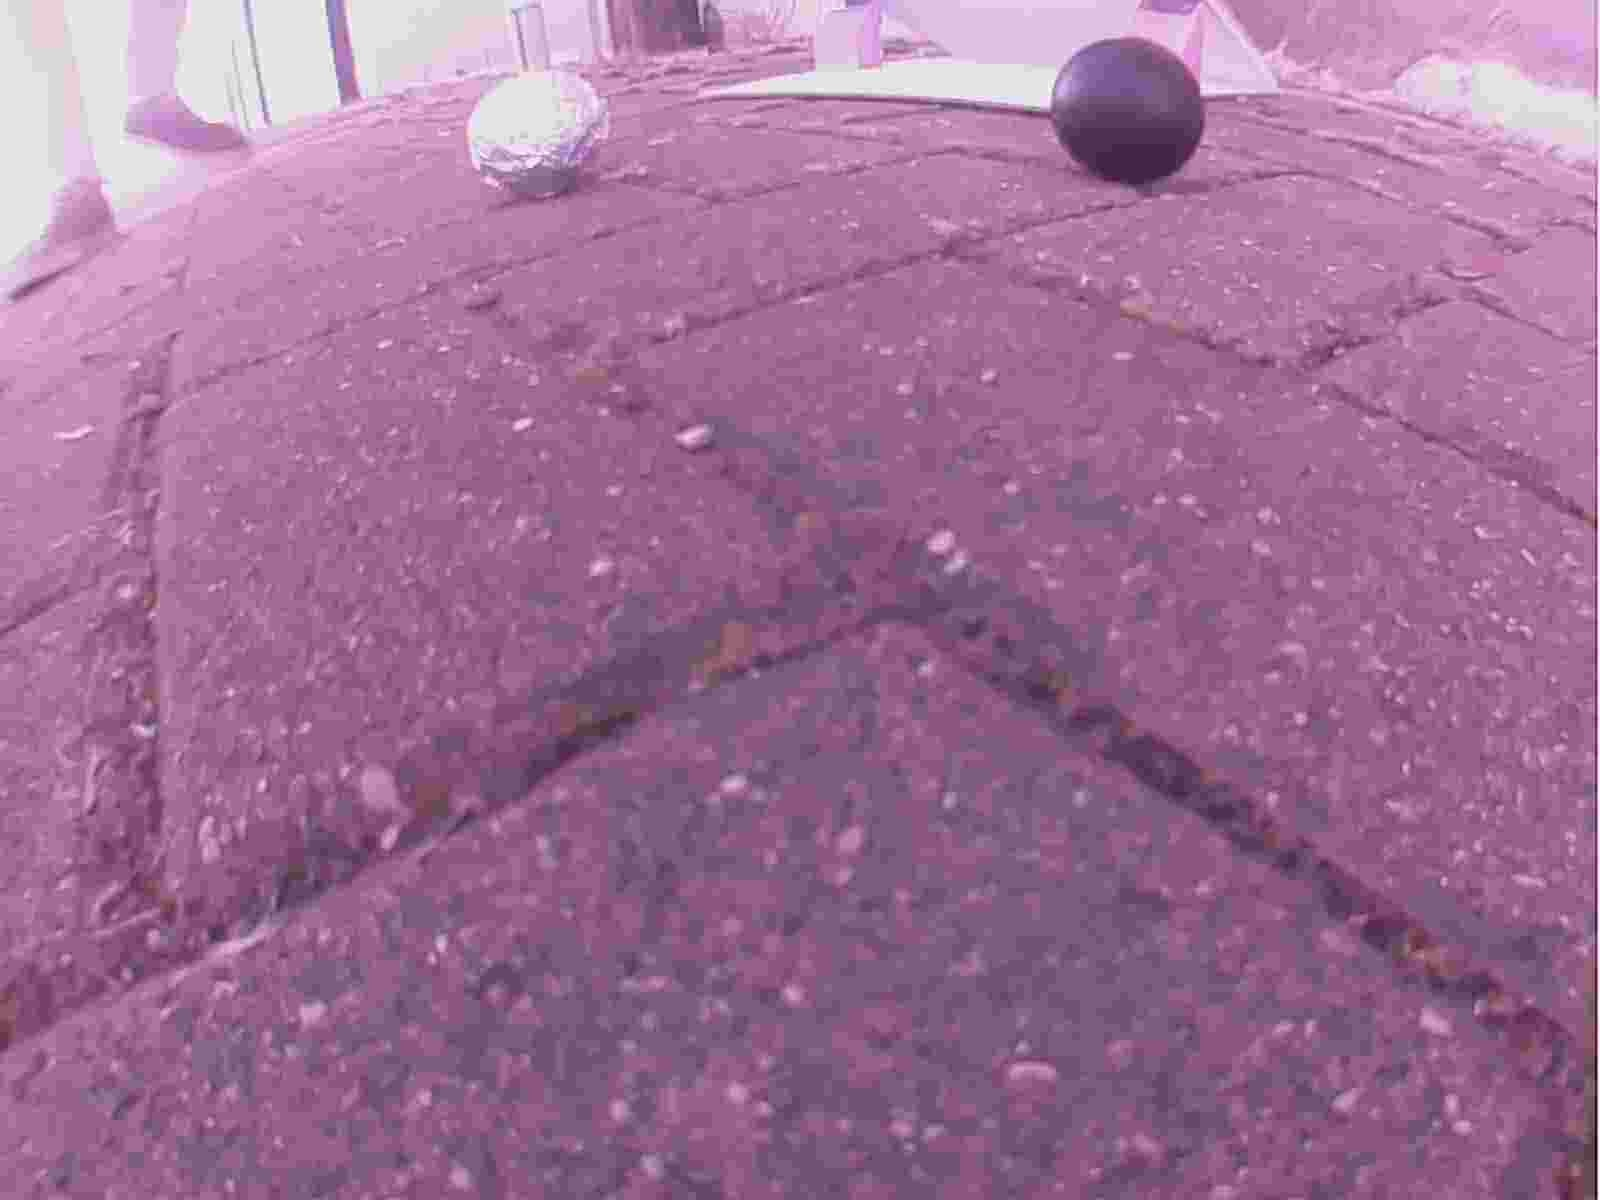bianca: (467, 66, 614, 205)
nera: (1049, 37, 1207, 190)
